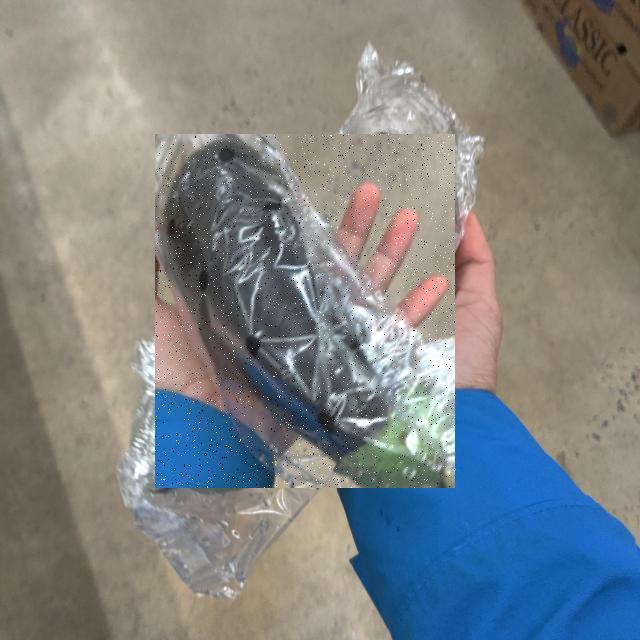Egg Plant: (155, 134, 455, 488)
